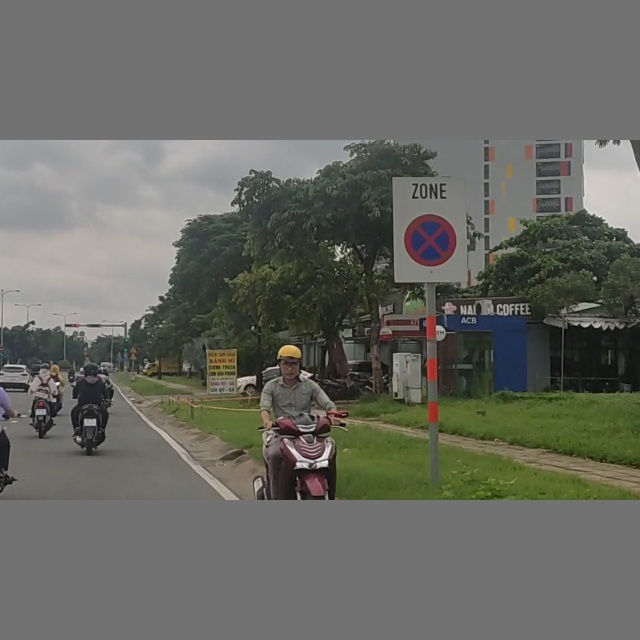P.102: (1, 347, 5, 352)
P.130: (404, 214, 457, 267)
R.302a: (1, 352, 5, 357)
